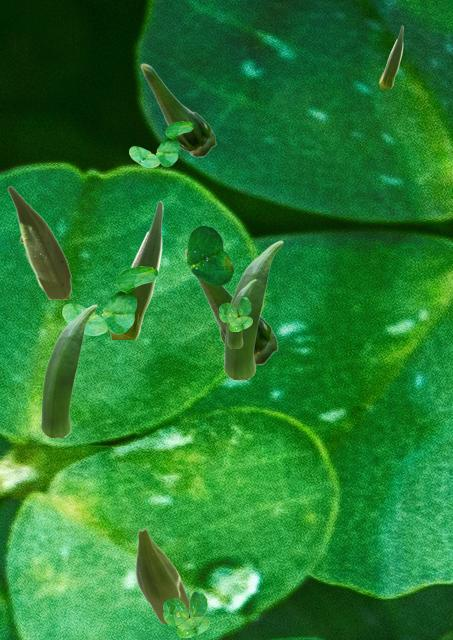okra: (184, 248, 277, 364), (223, 240, 282, 378), (108, 200, 162, 338), (40, 304, 96, 436), (7, 185, 70, 298), (140, 63, 215, 156), (135, 528, 188, 622), (227, 279, 255, 347), (379, 25, 402, 87)
